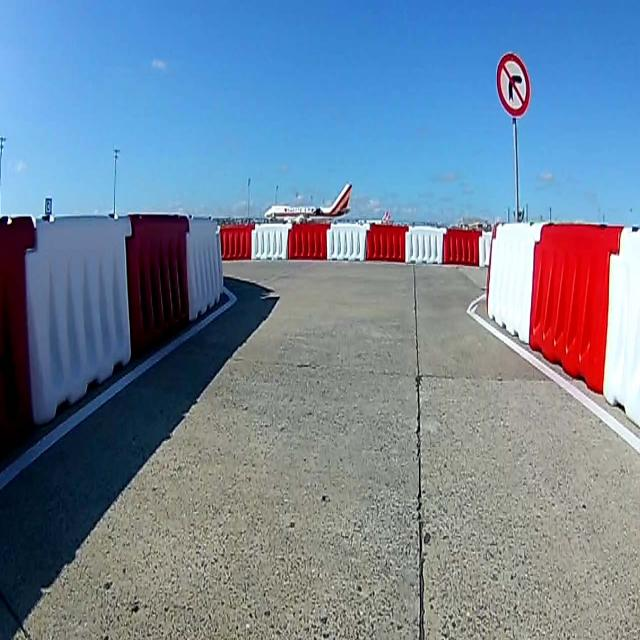sagadonulmez: (496, 53, 530, 118)
